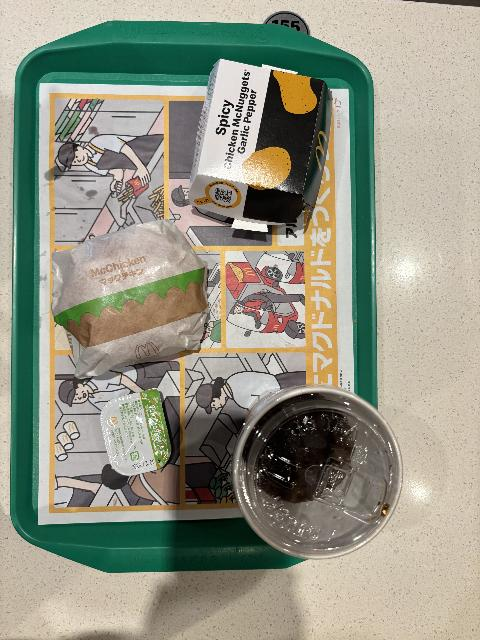burger: (49, 218, 210, 380)
drink: (232, 386, 404, 559)
nuggets: (187, 57, 332, 235)
sauce: (100, 387, 172, 476)
